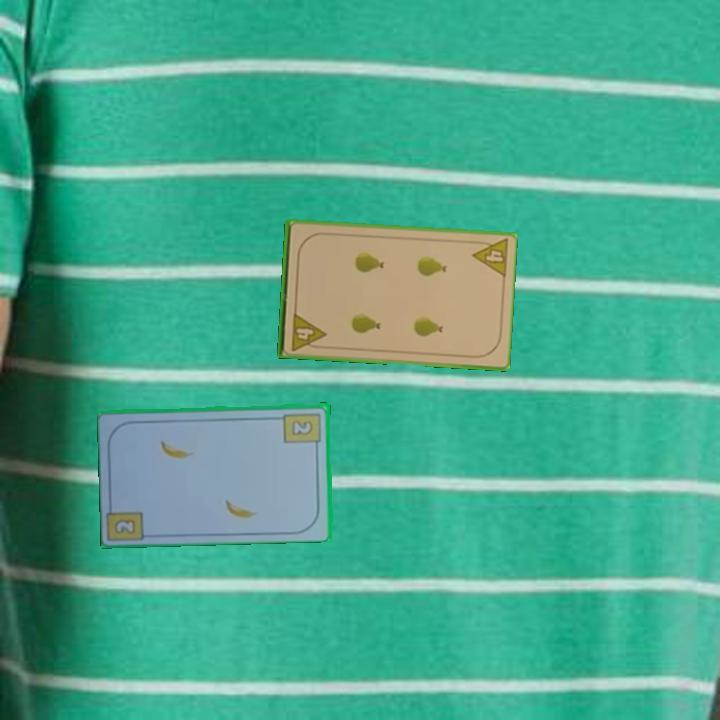2b: (281, 409, 324, 451), (111, 515, 138, 537)
4p: (468, 235, 510, 280), (288, 309, 328, 353)
